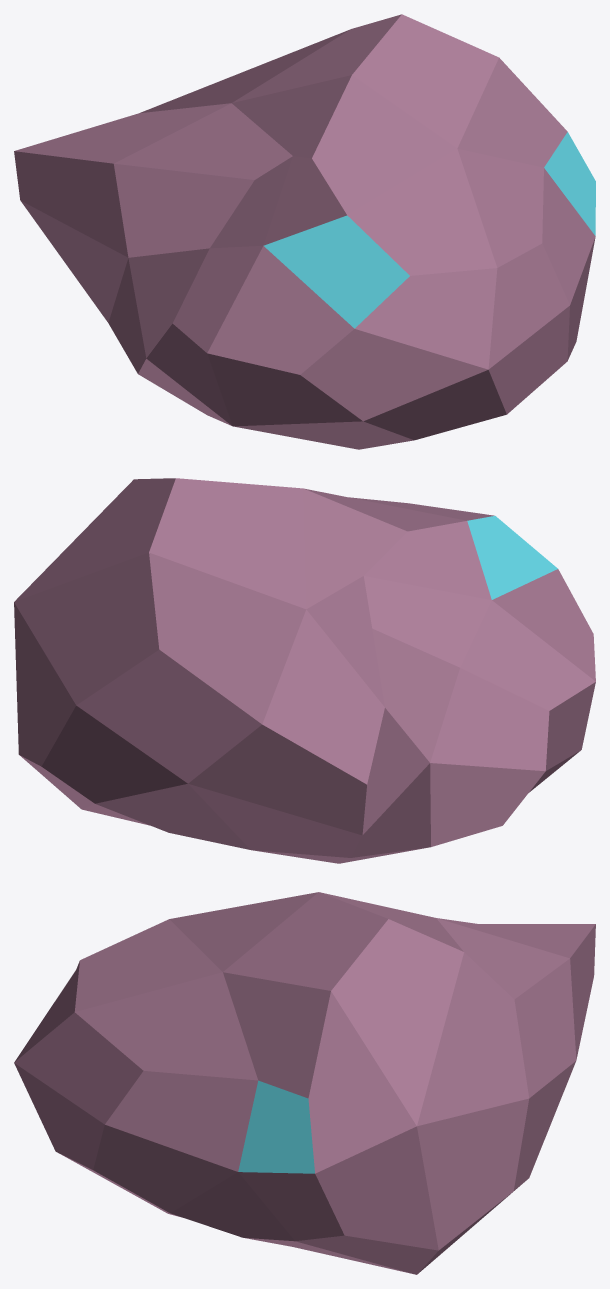
The model's file is Mushroom_Stone_03.fbx.
3 views of the same model, one above another, from view 1: azimuth 30°, elevation 25°; view 2: azimuth 150°, elevation 25°; view 3: azimuth 270°, elevation 25° (orthographic). The views are drawn at different scales.
Parts seen in each view (by area): view 1: Single_Stone_03; view 2: Single_Stone_03; view 3: Single_Stone_03.
Boxes of the visible parts, box(x1,y1,x2,y2) form: Single_Stone_03: box(14, 14, 595, 449); Single_Stone_03: box(14, 478, 595, 863); Single_Stone_03: box(14, 892, 595, 1274).
Size of the model in its own units: 57.47 by 39.82 by 63.19.
